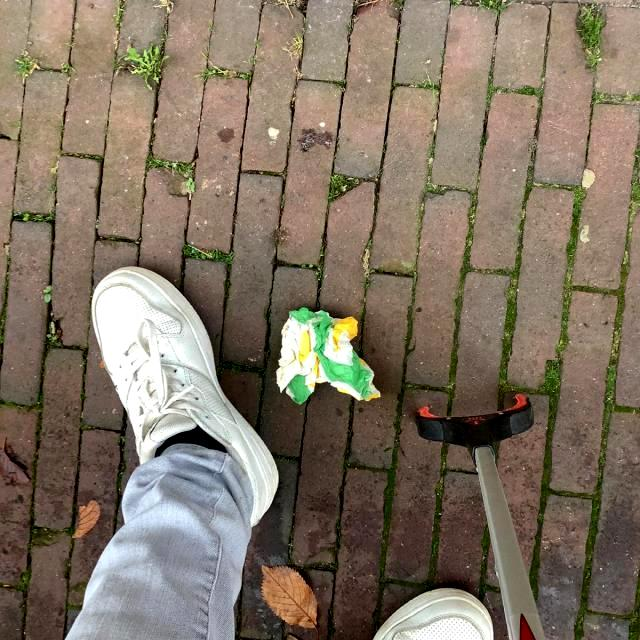Paper: (274, 306, 382, 406)
